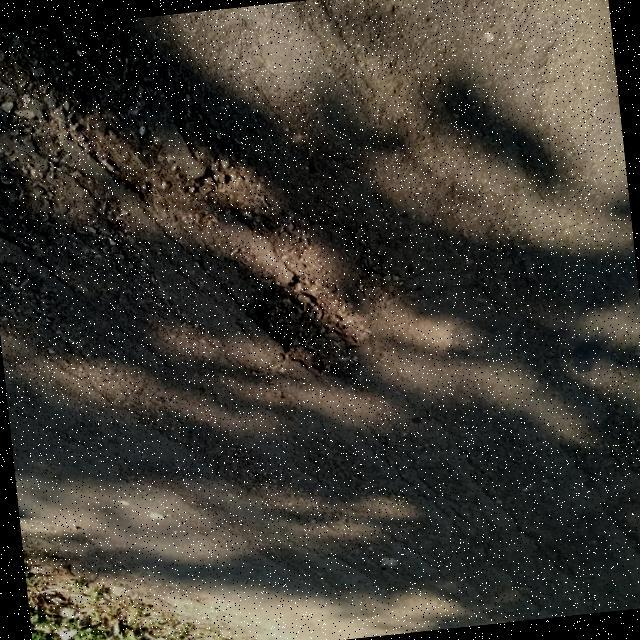Pothole: (0, 18, 262, 276), (227, 206, 374, 378)
